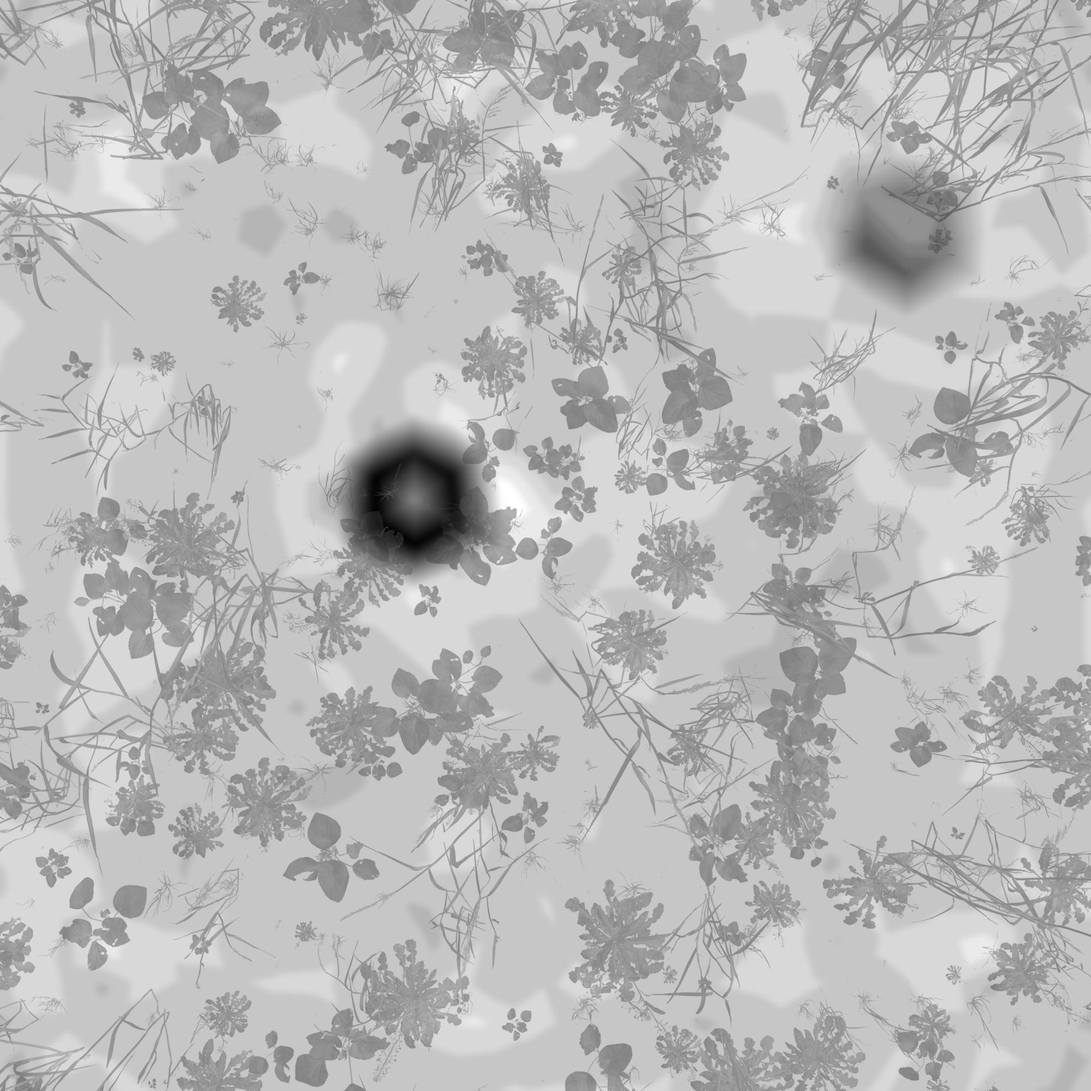landmine: (816, 156, 981, 309), (333, 433, 491, 580)
